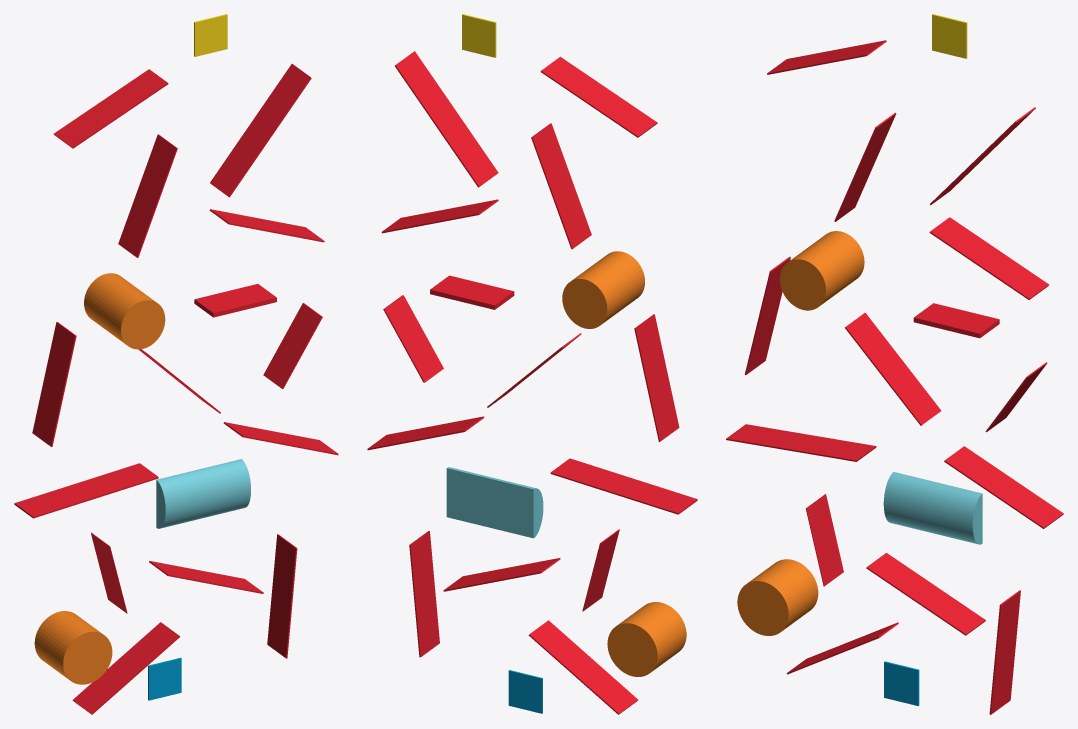
File: tinker.obj
3 views of the same model, side by side, from view 1: azimuth 30°, elevation 25°; view 2: azimuth 150°, elevation 25°; view 3: azimuth 330°, elevation 25° (orthographic). The views are drawn at different scales.
Visible parts, largest first — view 1: group_0_15277357, group_0_16089887, group_0_7720667, group_0_40919, group_0_16768282; view 2: group_0_15277357, group_0_16089887, group_0_7720667, group_0_40919, group_0_16768282; view 3: group_0_15277357, group_0_16089887, group_0_7720667, group_0_16768282, group_0_40919.
Boxes of the visible parts, x1,y1,x2,y2 form: group_0_15277357: (14,64,338,714); group_0_16089887: (34,273,165,684); group_0_7720667: (156,459,250,528); group_0_40919: (148,657,181,700); group_0_16768282: (194,14,227,56); group_0_15277357: (367,51,697,714); group_0_16089887: (562,251,686,676); group_0_7720667: (446,467,543,538); group_0_40919: (508,670,542,713); group_0_16768282: (462,14,496,57); group_0_15277357: (726,40,1063,714); group_0_16089887: (737,231,864,635); group_0_7720667: (883,472,982,544); group_0_16768282: (932,14,967,58); group_0_40919: (884,661,919,705).
Size of the model in its own units: 186 by 388 by 39.
